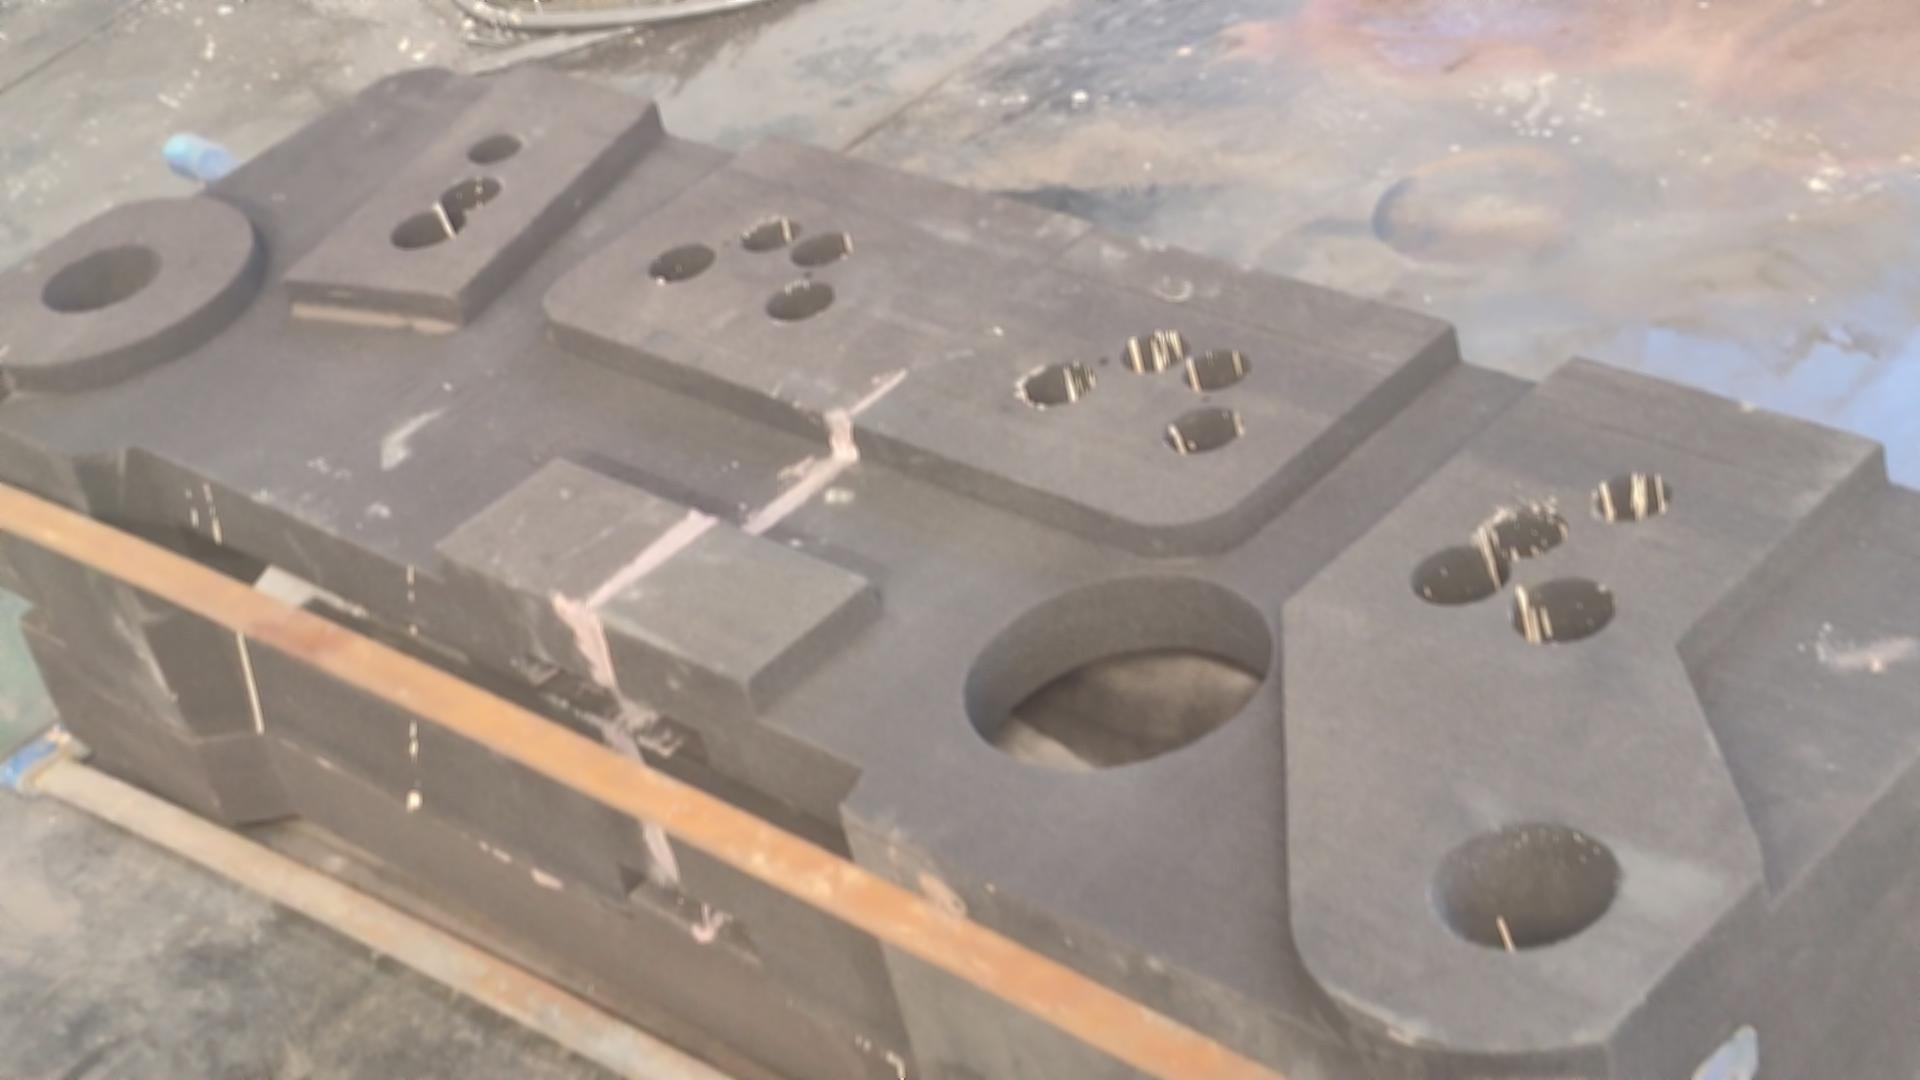pouring hole: (1429, 822, 1619, 949), (40, 243, 164, 313)
